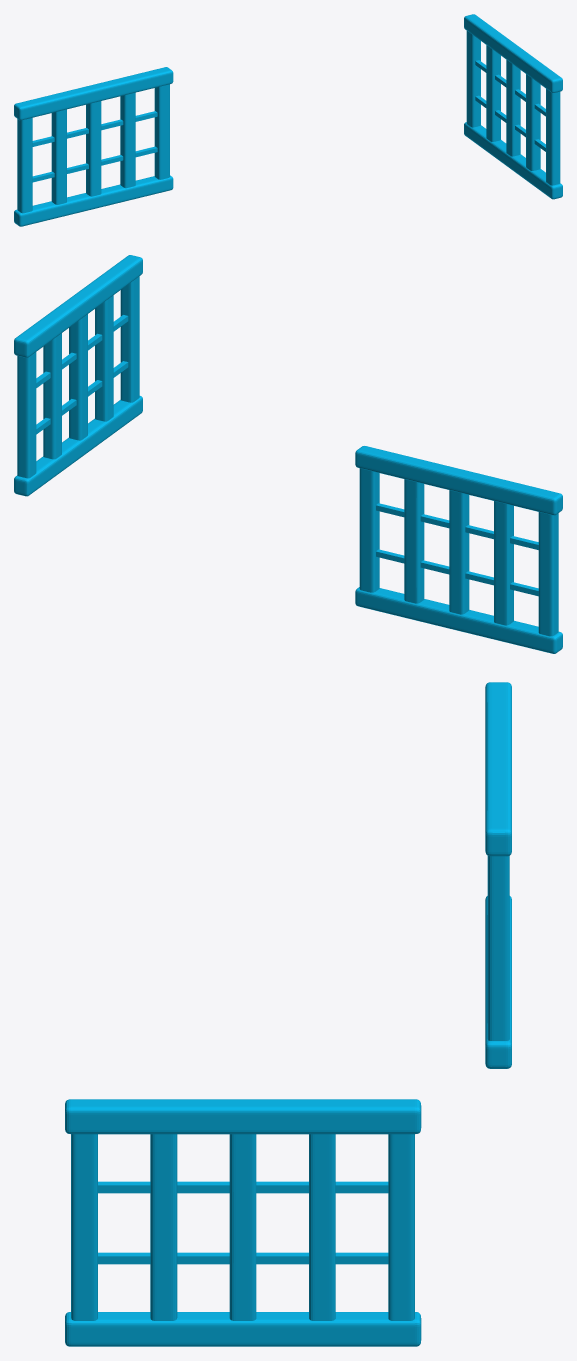
The model's file is SM_Wood_Window_06.fbx.
The picture shows the model from 3 angles, top to bottom: view 1: azimuth 30°, elevation 25°; view 2: azimuth 150°, elevation 25°; view 3: azimuth 270°, elevation 25°; orthographic projection. The views are drawn at different scales.
Parts seen in each view (by area): view 1: SM_Wood_Window_06; view 2: SM_Wood_Window_06; view 3: SM_Wood_Window_06.
Part boxes in pixels (left/top/right/bottom): SM_Wood_Window_06: left=14, top=14, right=562, bottom=226; SM_Wood_Window_06: left=14, top=255, right=562, bottom=653; SM_Wood_Window_06: left=65, top=682, right=511, bottom=1346.
Bounding box in the file's own units: 4.4 × 1.15 × 1.94.
